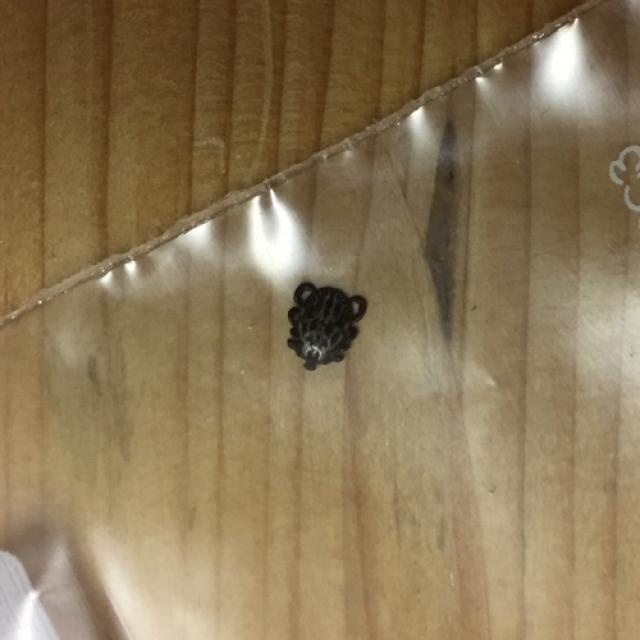Dermacentor Reticulatus-M: (284, 279, 369, 370)
